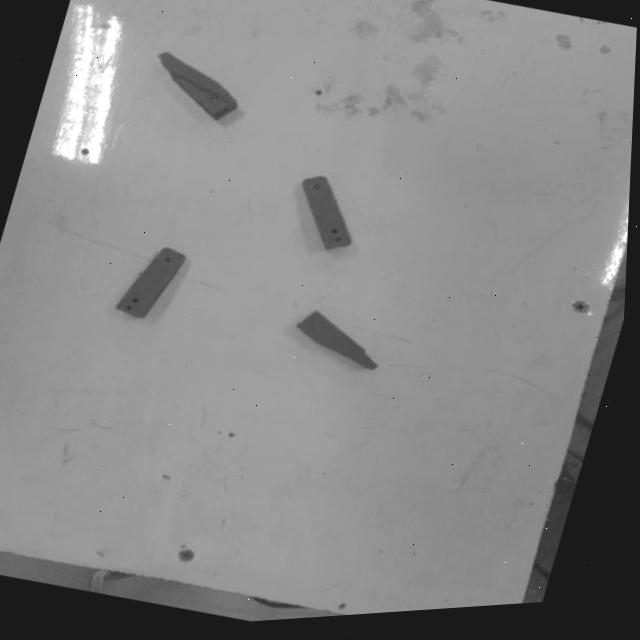grey: (287, 171, 374, 262), (113, 240, 192, 335)
head: (162, 257, 179, 271), (309, 184, 325, 197)
